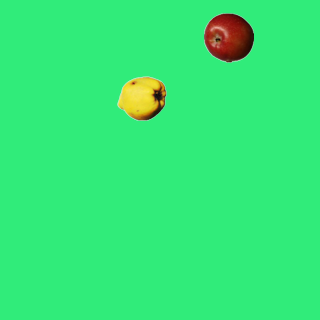Apple Braeburn: (203, 12, 253, 62)
Quince: (116, 73, 166, 123)
